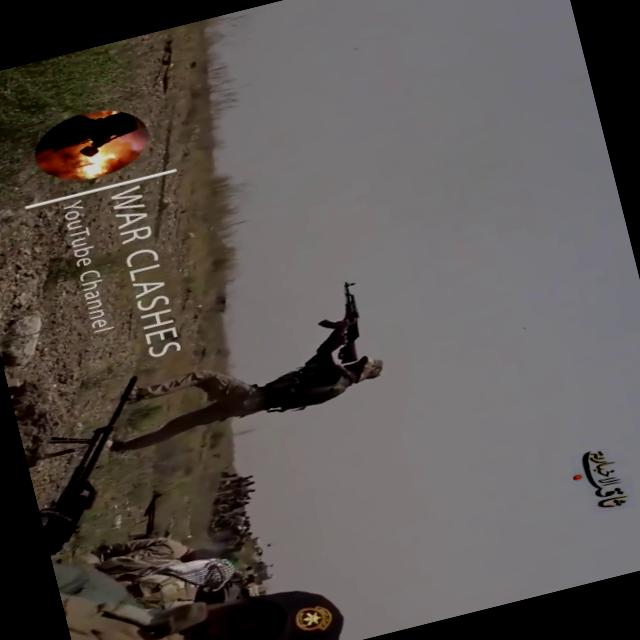long weapon: (302, 276, 382, 371)
